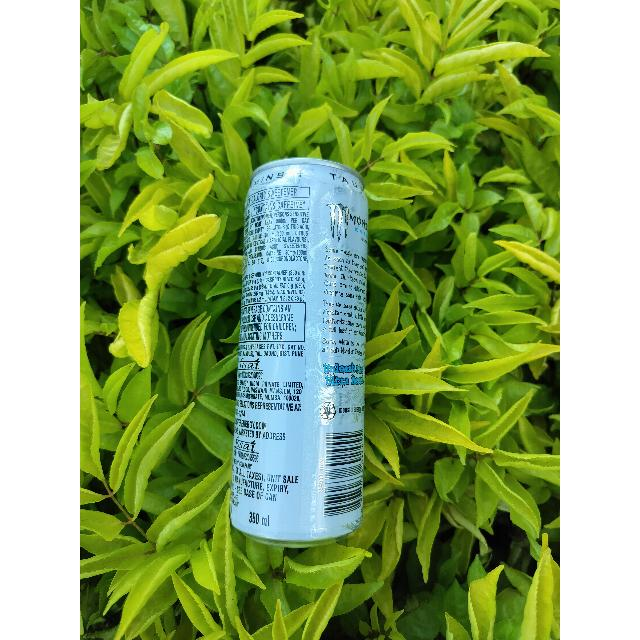White Monster: (225, 152, 372, 548)
